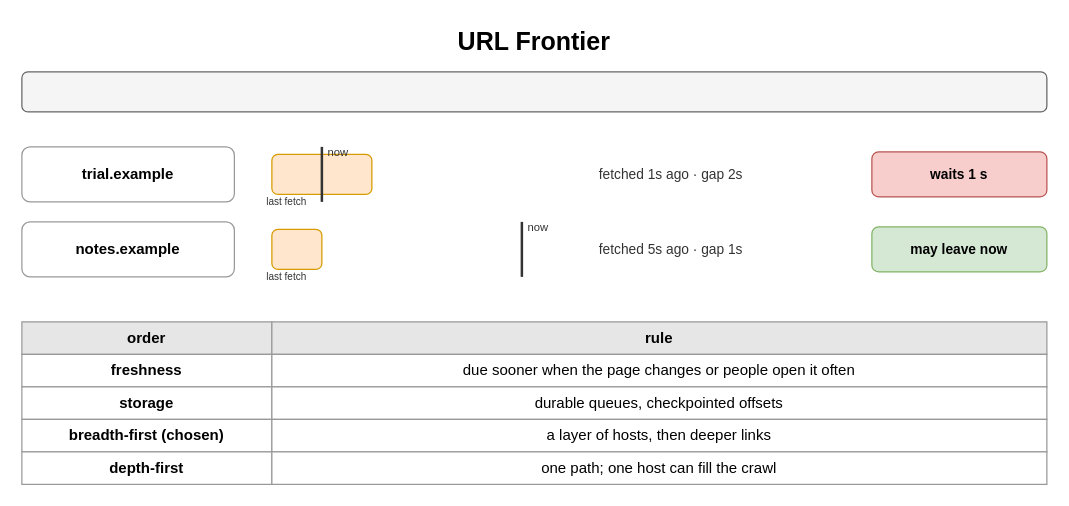
Some shapes in this 1069 by 506 pixel diagram are drawn without their labels. Here are the shapes that lost their labels. From the top down, the box of each, then its label:
(21, 71, 1047, 112): Per-host queues with a gap; priority orders only what the gap released
(271, 153, 372, 194): gap 2s
(271, 228, 322, 269): gap 1s
